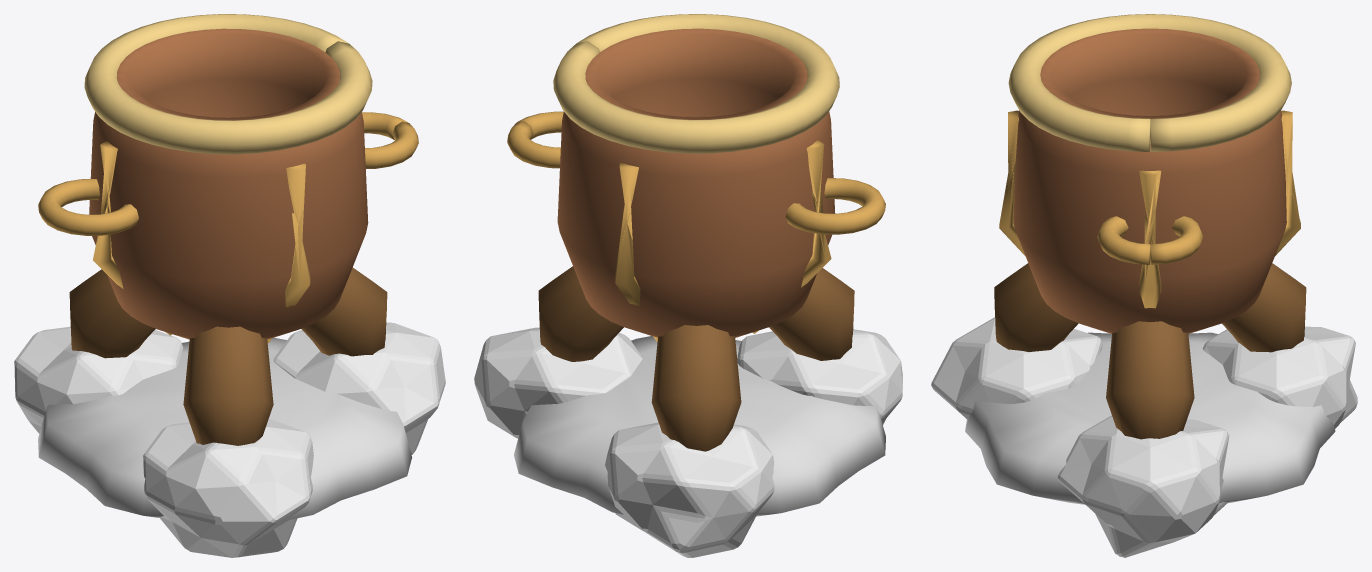
The model's file is mortar-2.fbx.
3 views of the same model, side by side, from view 1: azimuth 30°, elevation 25°; view 2: azimuth 150°, elevation 25°; view 3: azimuth 270°, elevation 25° (orthographic).
Visible parts, largest first — view 1: Turret_Organic, Base_Stone, Turret_Metal, ClayBerm; view 2: Turret_Organic, Base_Stone, Turret_Metal, ClayBerm; view 3: Turret_Organic, Base_Stone, Turret_Metal, ClayBerm.
Part boxes in pixels (x1=…): Turret_Organic: x1=69, y1=28, x2=387, y2=445; Base_Stone: x1=14, y1=322, x2=445, y2=557; Turret_Metal: x1=38, y1=14, x2=418, y2=343; ClayBerm: x1=38, y1=337, x2=412, y2=520; Turret_Organic: x1=538, y1=28, x2=854, y2=451; Base_Stone: x1=474, y1=327, x2=902, y2=557; Turret_Metal: x1=507, y1=14, x2=885, y2=341; ClayBerm: x1=514, y1=336, x2=885, y2=516; Turret_Organic: x1=994, y1=28, x2=1306, y2=439; Base_Stone: x1=931, y1=317, x2=1357, y2=557; Turret_Metal: x1=999, y1=14, x2=1300, y2=308; ClayBerm: x1=965, y1=332, x2=1335, y2=504.
Bounding box in the file's own units: 101 × 103 × 96.34.
